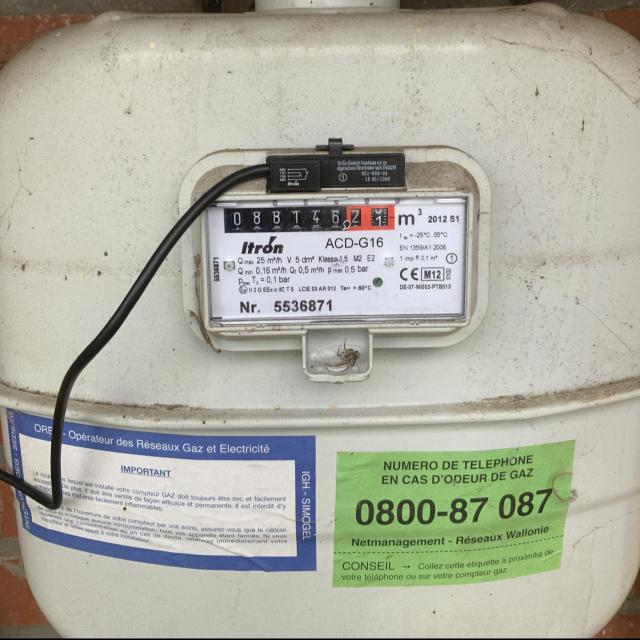gaz_meter: (208, 205, 465, 319)
indication: (225, 204, 394, 234)
